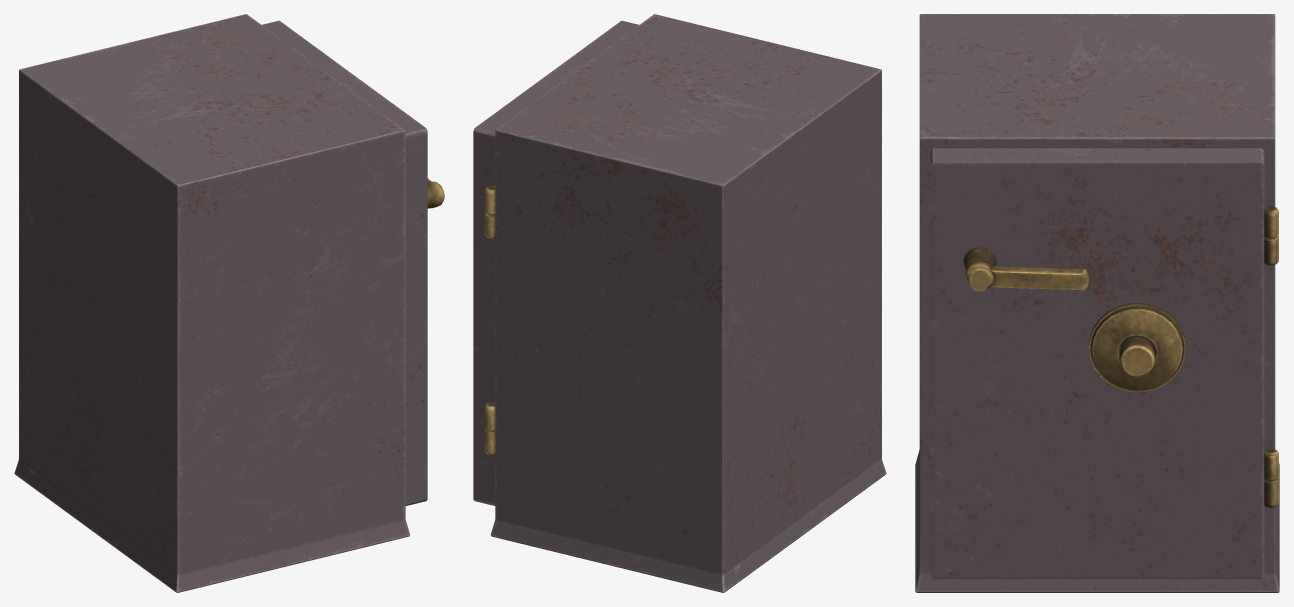
The model's file is safe.glb.
The picture shows the model from 3 angles, left to right: view 1: azimuth 30°, elevation 25°; view 2: azimuth 150°, elevation 25°; view 3: azimuth 270°, elevation 25°; orthographic projection. The views are drawn at different scales.
Parts seen in each view (by area): view 1: Cube, Cube.001; view 2: Cube, Cube.001, Cylinder.001, Cylinder; view 3: Cube.001, Cube, Cylinder.002, Cylinder.003, Cylinder, Cylinder.001.
Part boxes in pixels (x1,y1,x2,y2): Cube: (14, 14, 409, 592); Cube.001: (262, 20, 427, 505); Cube: (491, 14, 886, 592); Cube.001: (473, 20, 638, 505); Cylinder.001: (484, 185, 495, 238); Cylinder: (484, 402, 495, 455); Cube.001: (930, 148, 1264, 579); Cube: (915, 14, 1279, 592); Cylinder.002: (1089, 303, 1185, 392); Cylinder.003: (963, 247, 1089, 291); Cylinder: (1264, 448, 1278, 507); Cylinder.001: (1264, 206, 1278, 265).
Bounding box in the file's own units: 0.8189 × 1.07 × 0.7818.
Materials: 1 (1 with a texture image).
